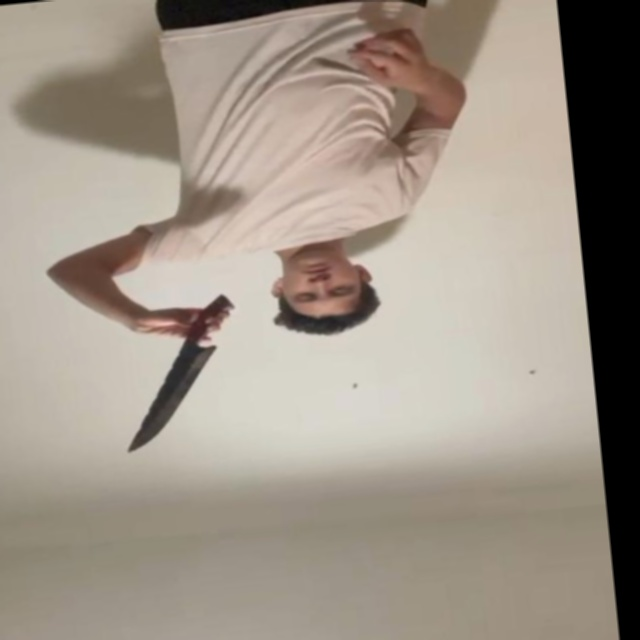Sharp-Object: (114, 341, 227, 455)
